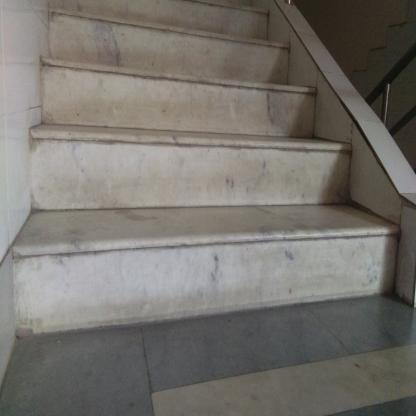stairs: (65, 31, 278, 334)
